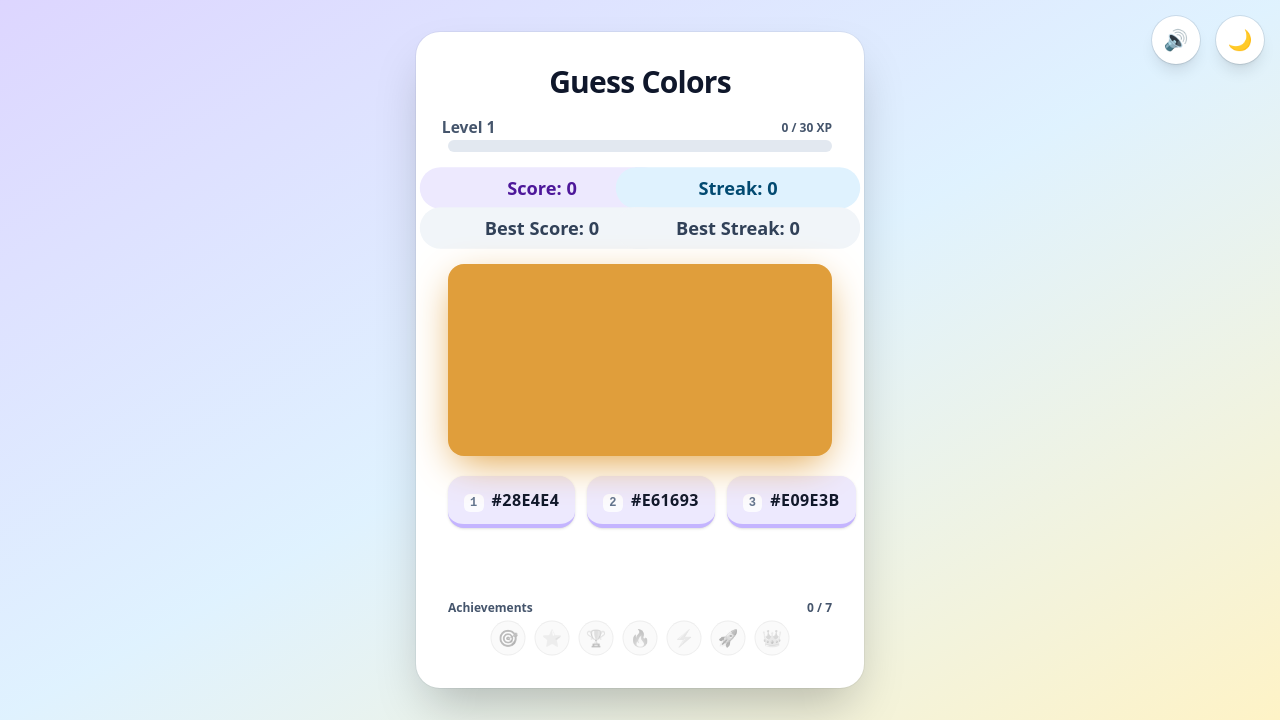
Test: resets streak but keeps score after a wrong answer
Click the button "3#E09E3B". click: (791, 502)
box: [727, 476, 856, 528]
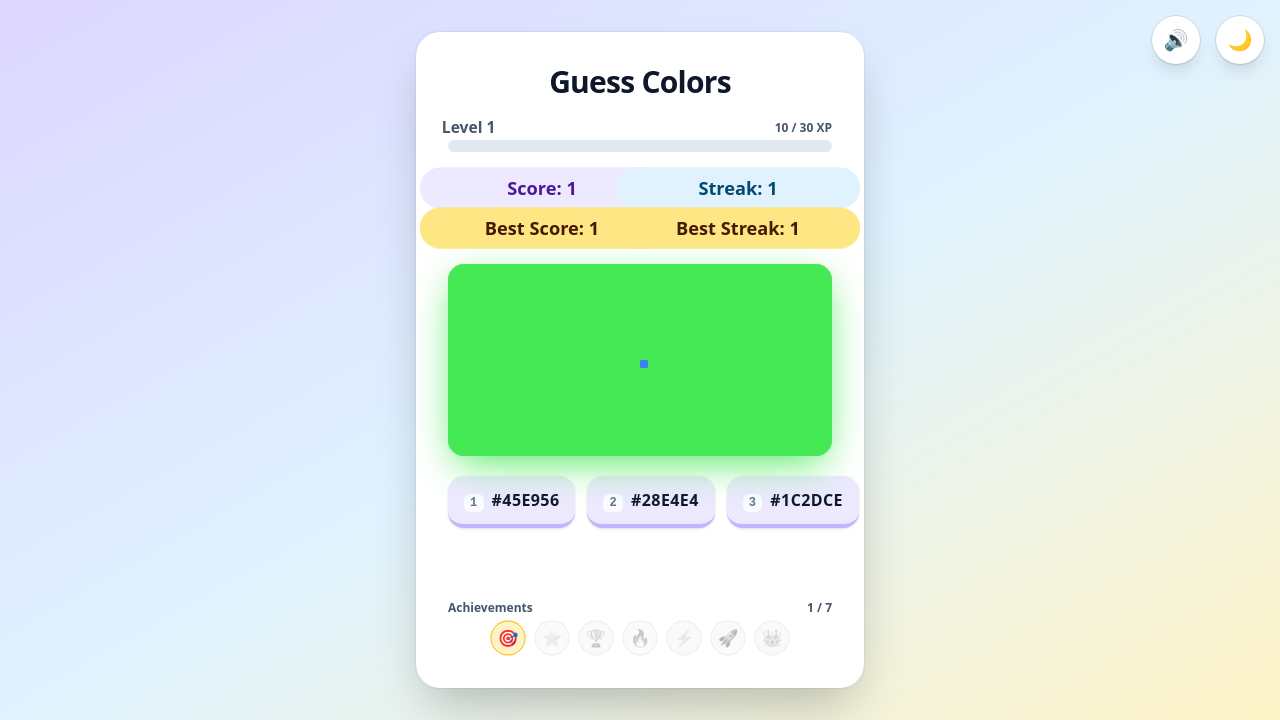
Result: the text "Streak: 1" is shown at [616, 167, 860, 209]
Click the button "3#1C2DCE". click: (793, 502)
box: [727, 476, 859, 528]
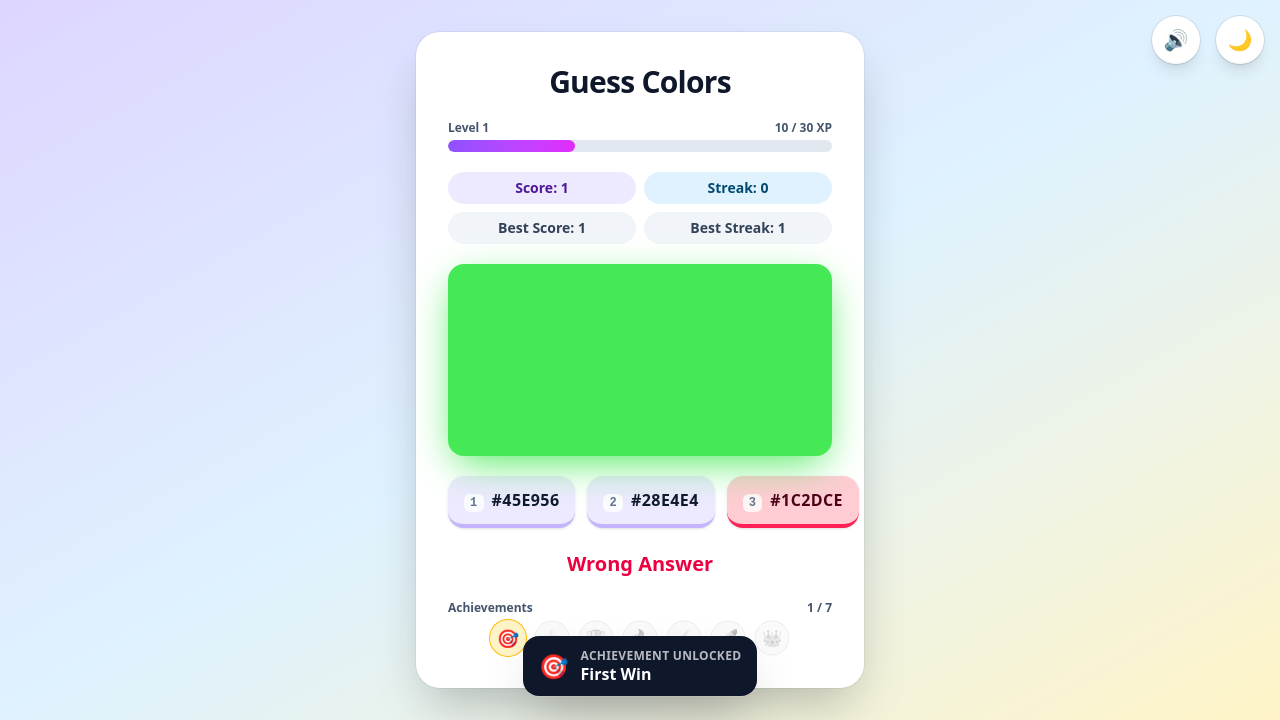
Result: the text "Score: 1" is shown at [448, 172, 636, 204]
Result: the text "Streak: 0" is shown at [644, 172, 832, 204]
